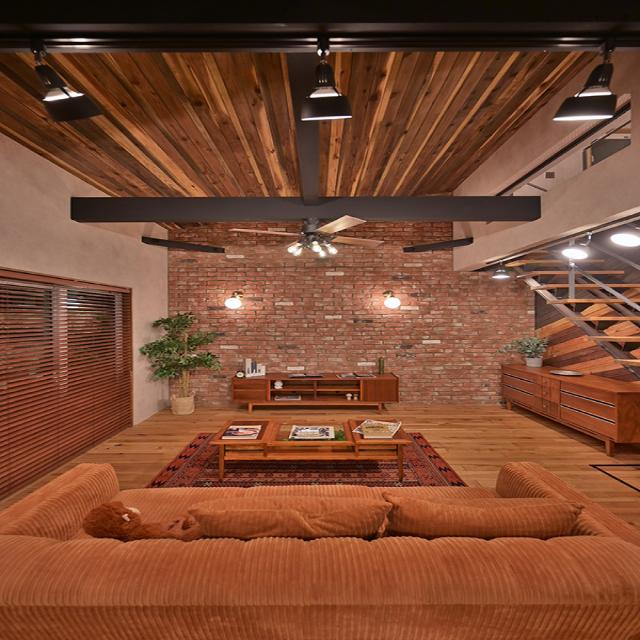vintage desk: (214, 417, 416, 475)
vintage shelf: (497, 362, 640, 456), (232, 370, 400, 410)
vintage sofa: (0, 461, 633, 639)
